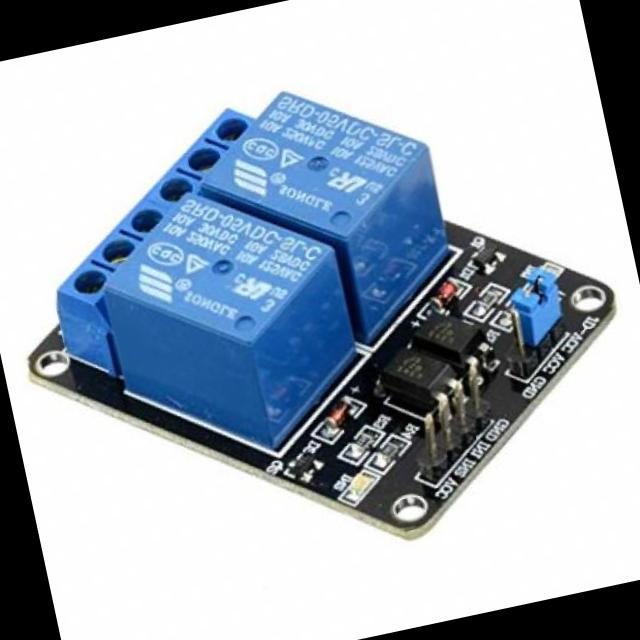IC: (404, 300, 493, 378), (369, 336, 457, 414)
LED: (342, 467, 374, 501)
connector: (33, 106, 280, 308), (395, 360, 509, 486), (492, 264, 583, 369)
diode: (312, 389, 364, 440), (425, 278, 463, 310)
resistor: (468, 284, 505, 318), (346, 428, 380, 456), (373, 436, 403, 464)
transistor: (281, 442, 322, 488), (469, 237, 507, 270)
